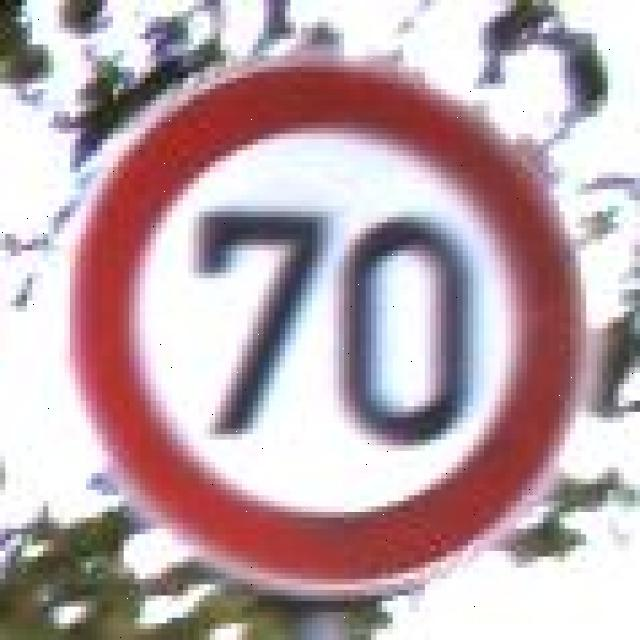speed limit 70: (63, 55, 587, 597)
